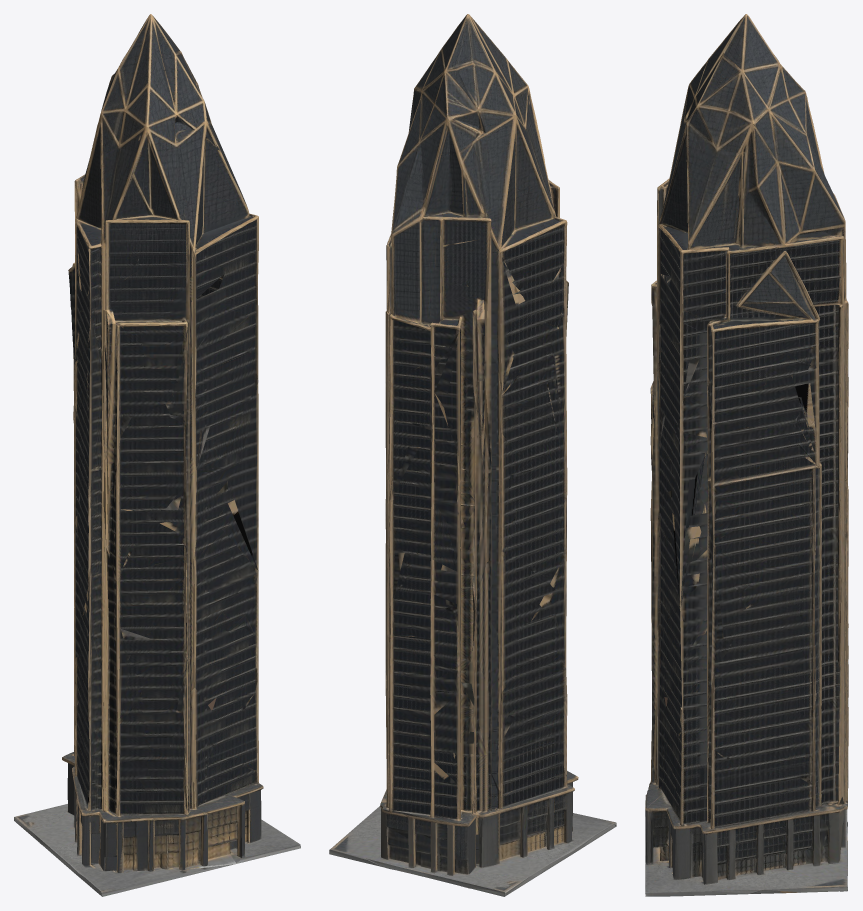
File: neon-v-C.glb
The picture shows the model from 3 angles, left to right: view 1: azimuth 30°, elevation 25°; view 2: azimuth 150°, elevation 25°; view 3: azimuth 270°, elevation 25°; orthographic projection.
Parts seen in each view (by area): view 1: output_unwrapped; view 2: output_unwrapped; view 3: output_unwrapped.
Part boxes in pixels (x1,y1,x2,y2): output_unwrapped: (14, 14, 300, 896); output_unwrapped: (329, 14, 616, 896); output_unwrapped: (645, 14, 848, 896).
Bounding box in the file's own units: 20.48 × 80.75 × 17.85.
Materials: 1 (1 with a texture image).
